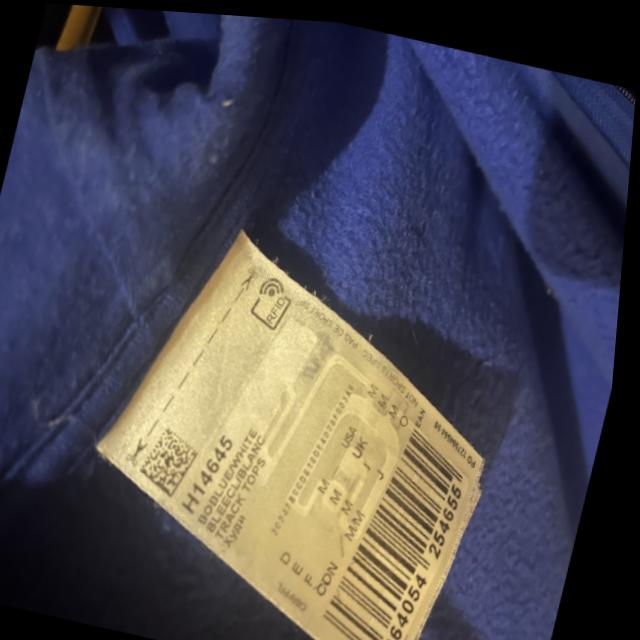datamatrix: (143, 420, 212, 499)
